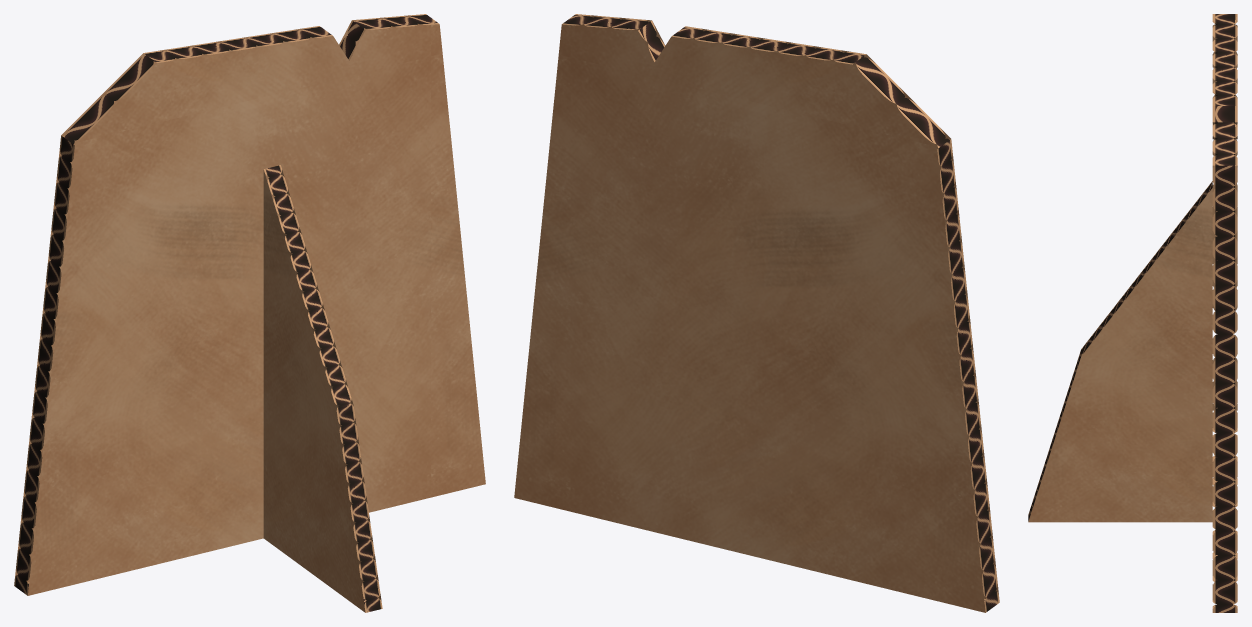
Rendered from Carboard Cut Out.fbx.
The picture shows the model from 3 angles, left to right: view 1: azimuth 30°, elevation 25°; view 2: azimuth 150°, elevation 25°; view 3: azimuth 270°, elevation 25°; orthographic projection. The views are drawn at different scales.
Visible parts, largest first — view 1: Cardboard Cut-Out; view 2: Cardboard Cut-Out; view 3: Cardboard Cut-Out.
Part boxes in pixels (<box>): Cardboard Cut-Out: <box>14,14,485,612</box>; Cardboard Cut-Out: <box>514,14,999,612</box>; Cardboard Cut-Out: <box>1028,14,1237,612</box>.
Bounding box in the file's own units: 76.35 × 79.84 × 33.37.
